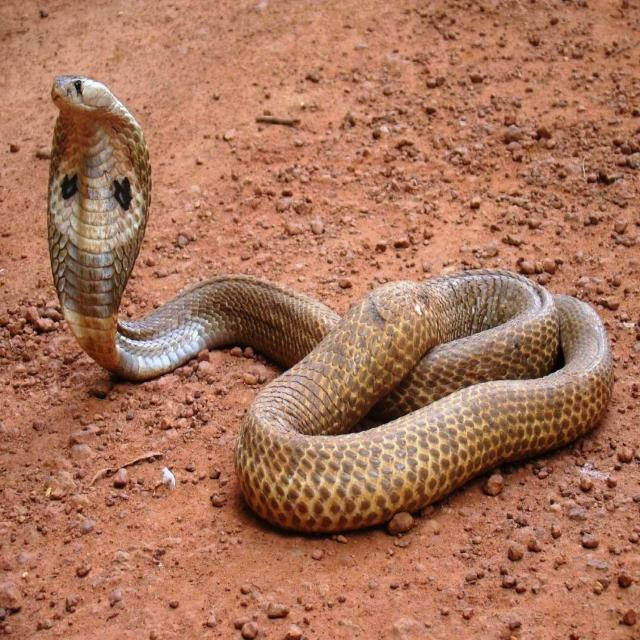Snake: (46, 73, 614, 534)
